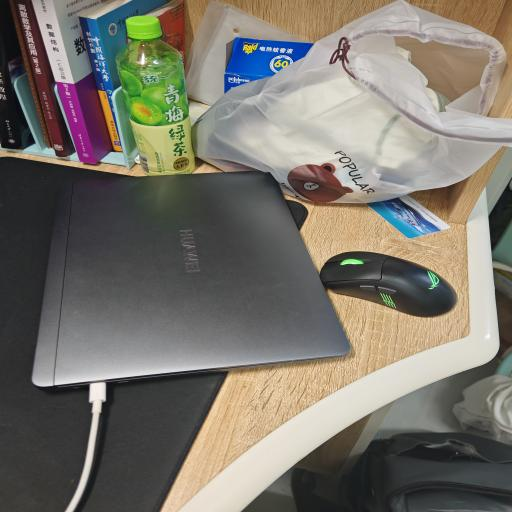laptop: (32, 171, 350, 386)
mouse: (320, 252, 456, 316)
